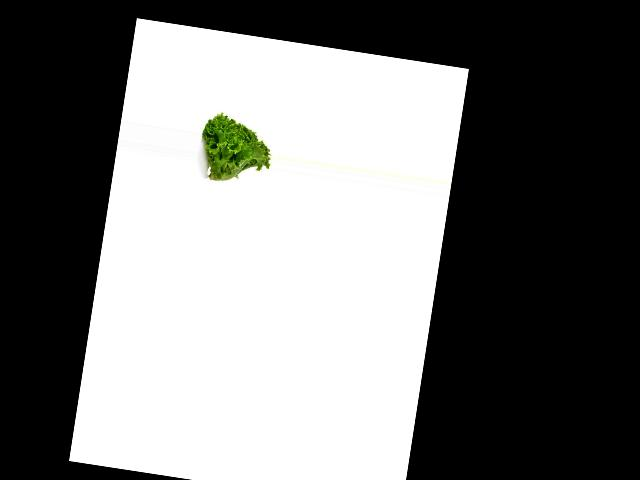lettuce: (195, 106, 279, 193)
